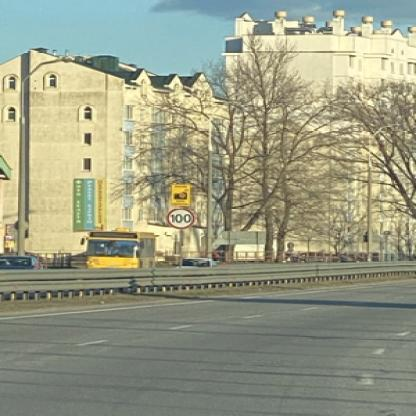Speed Limit 100: (168, 209, 194, 229)
